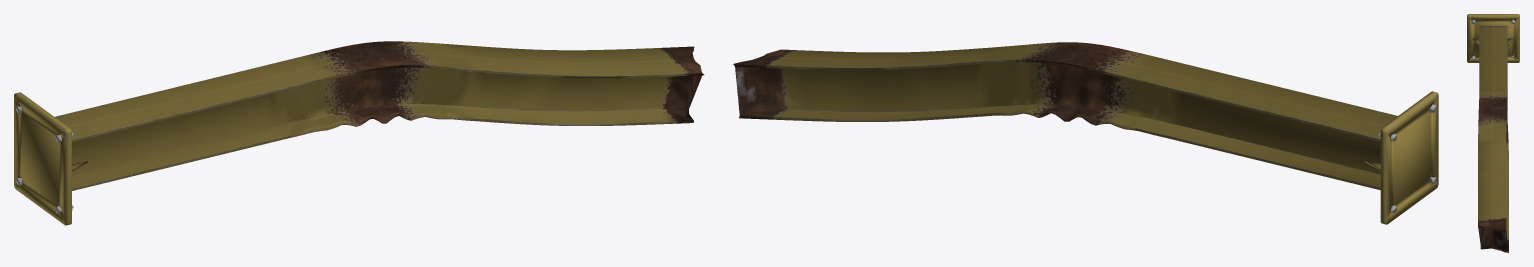
Rendered from industrial_column_bent_lod1.glb.
The picture shows the model from 3 angles, left to right: view 1: azimuth 30°, elevation 25°; view 2: azimuth 150°, elevation 25°; view 3: azimuth 270°, elevation 25°; orthographic projection. The views are drawn at different scales.
Visible parts, largest first — view 1: industrial_column_bent_paint; view 2: industrial_column_bent_paint; view 3: industrial_column_bent_paint, industrial_column_bent_bolt.
Part boxes in pixels (x1,y1,x2,y2): industrial_column_bent_paint: (14, 41, 704, 225); industrial_column_bent_paint: (733, 42, 1438, 224); industrial_column_bent_paint: (1467, 14, 1519, 252); industrial_column_bent_bolt: (1471, 19, 1515, 59).
Size of the model in its own units: 4.09 by 0.9262 by 0.5597.
Materials: 3 (1 with a texture image).
